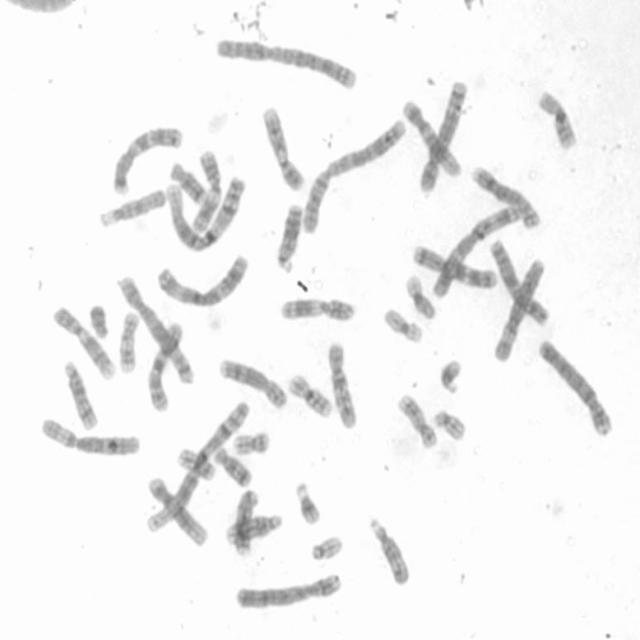A1: (145, 400, 250, 535), (166, 174, 248, 254)
A2: (300, 117, 408, 236), (214, 36, 359, 92)
A3: (430, 204, 521, 300), (157, 252, 249, 308)
B4: (534, 336, 614, 438), (234, 572, 342, 612)
B5: (113, 275, 196, 386), (418, 78, 469, 195)
C10: (145, 321, 184, 413), (326, 340, 358, 430)
C11: (190, 150, 224, 233), (279, 296, 354, 323)
C12: (400, 97, 464, 179), (147, 475, 211, 549)
C6: (491, 257, 547, 363), (38, 417, 142, 456)
C7: (111, 124, 184, 196), (409, 244, 498, 291)
C8: (470, 164, 540, 231), (219, 356, 288, 412)
C9: (52, 305, 118, 381), (261, 104, 307, 194)
D13: (232, 488, 261, 557), (276, 202, 302, 274)
D14: (63, 360, 99, 430), (224, 513, 284, 547)
D15: (368, 516, 411, 588), (98, 188, 167, 228)
E16: (536, 88, 580, 152), (286, 372, 332, 420)
E17: (396, 392, 439, 450), (118, 310, 140, 375)
E18: (212, 445, 253, 489), (168, 160, 208, 205)
F19: (383, 306, 424, 346), (406, 273, 438, 321)
F20: (176, 446, 216, 483), (232, 431, 271, 455)
G21: (292, 479, 322, 527), (437, 359, 464, 397)
G22: (430, 409, 468, 442), (310, 535, 343, 562)
X: (489, 238, 552, 328)
Y: (89, 302, 110, 340)
